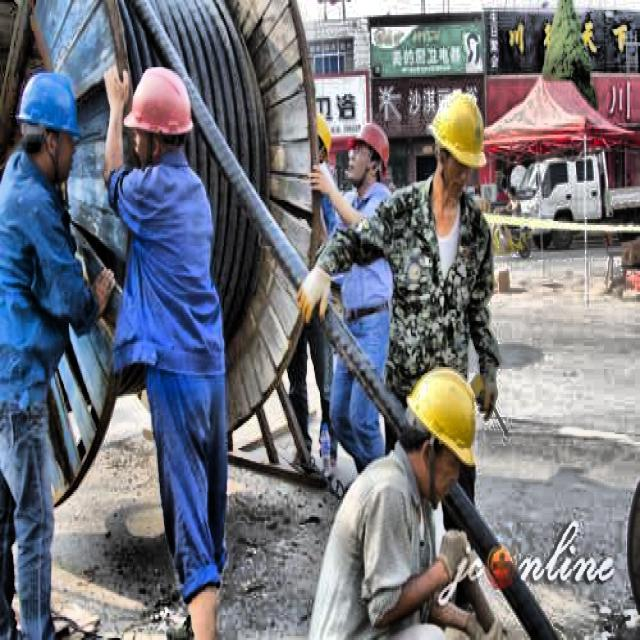helmet: (398, 359, 485, 494), (120, 60, 194, 169), (17, 65, 82, 181), (426, 85, 488, 196), (346, 119, 392, 192)
